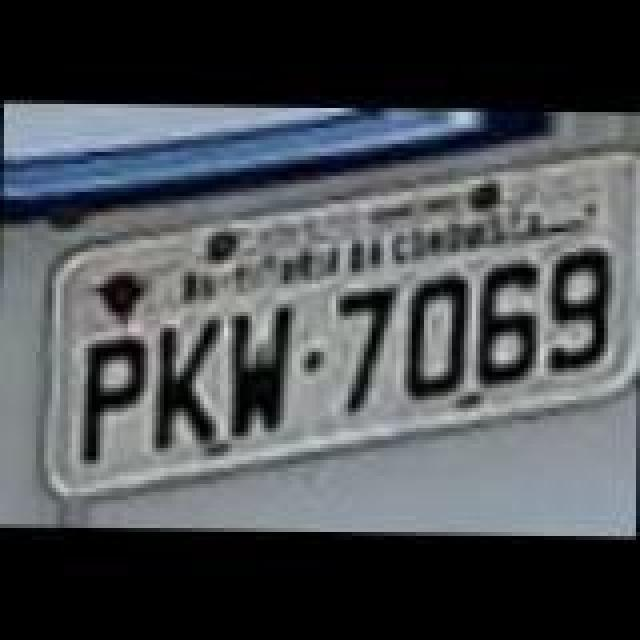6: (474, 262, 542, 394)
7: (334, 288, 402, 416)
9: (548, 244, 620, 372)
K: (150, 320, 218, 448)
O: (404, 274, 476, 406)
P: (78, 332, 146, 468)
W: (230, 304, 298, 440)
